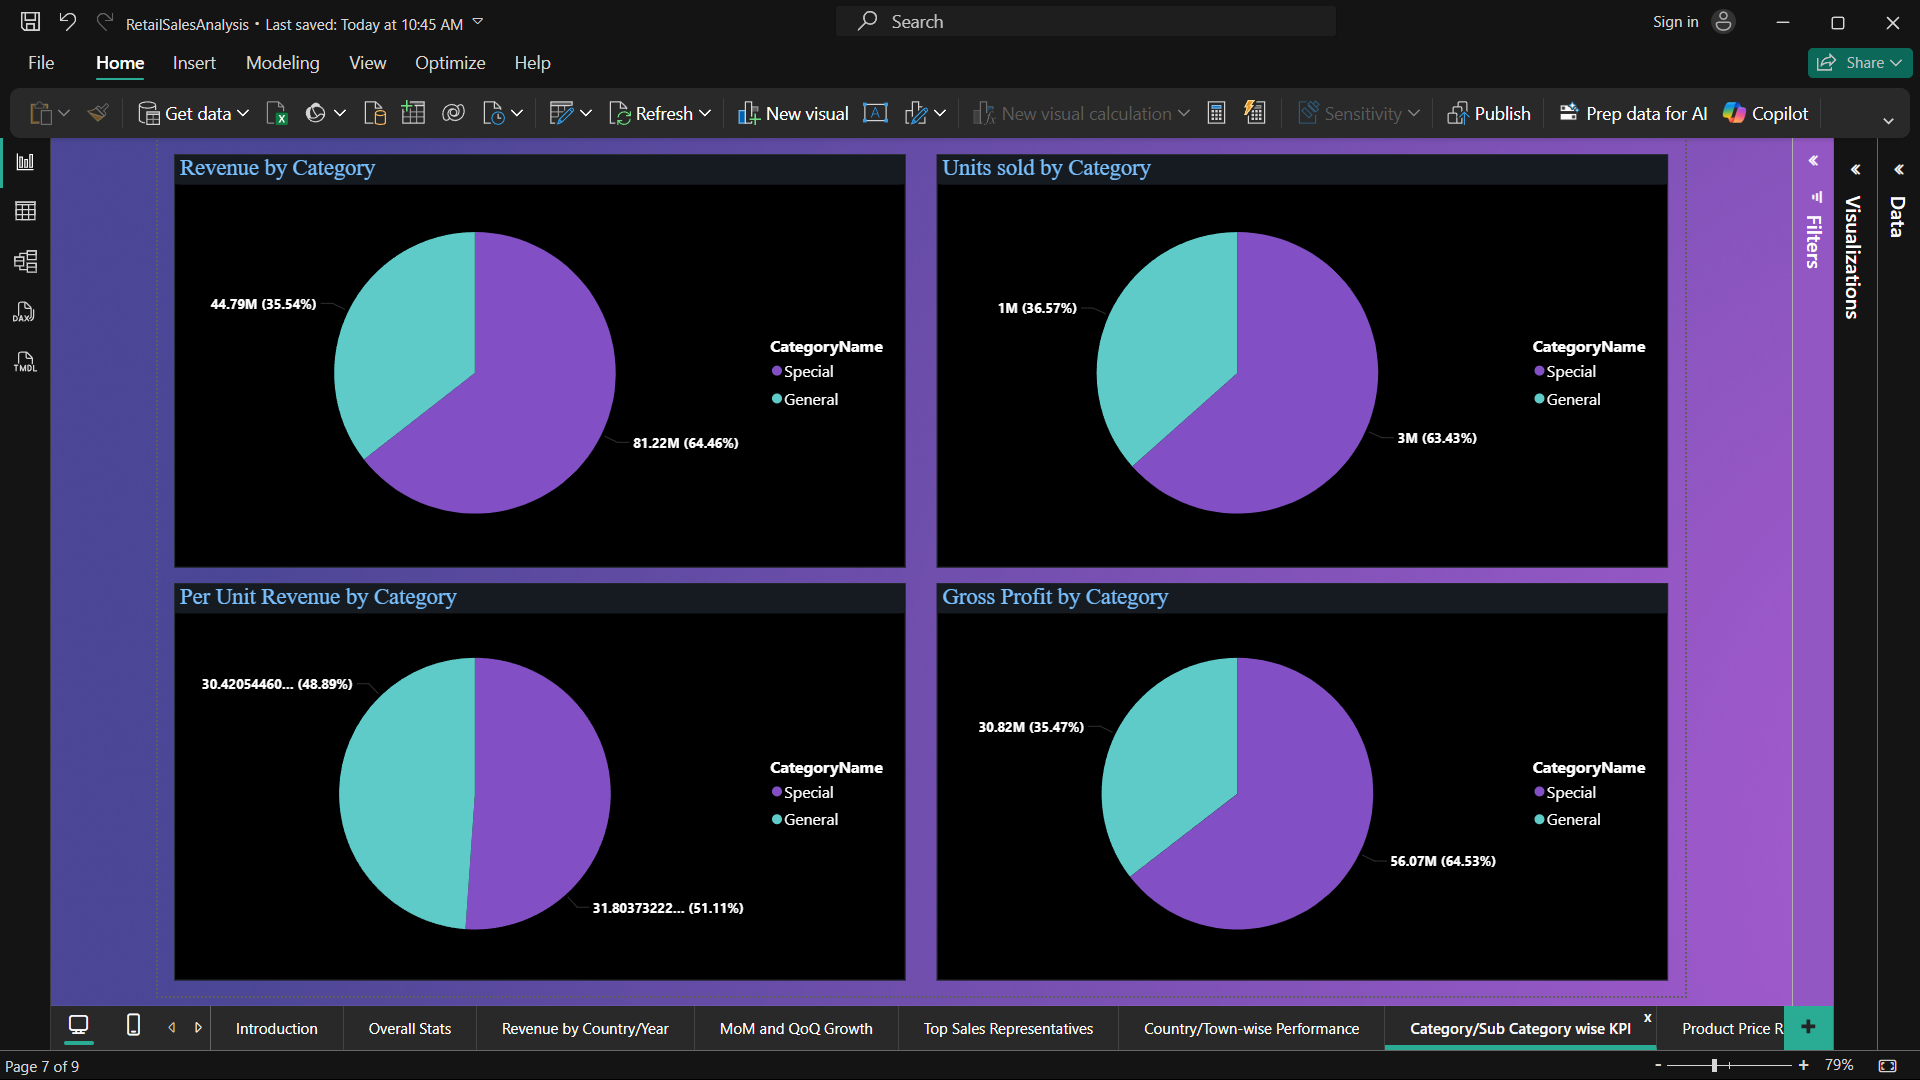

The page's visual inventory and layout, read from the dashboard file:
{"tool":"powerbi","page":{"name":"Category/Sub Category wise KPI","canvas":[1536,864],"ordinal":6},"visuals":[{"type":"pieChart","title":"Revenue by Category","fields":{"Category":["DimCategory.CategoryName","DimSubCategory.SubCategory Name"],"Y":["Sum(FactSales.Total Revenue)"]},"box":[16,16,736,416],"z":0},{"type":"pieChart","title":"Units sold by Category","fields":{"Category":["DimCategory.CategoryName","DimSubCategory.SubCategory Name"],"Y":["Sum(FactSales.Units)"]},"box":[784,16,736,416],"z":1000},{"type":"pieChart","title":"Gross Profit by Category","fields":{"Category":["DimCategory.CategoryName","DimSubCategory.SubCategory Name"],"Y":["FactSales.Total Gross Profit"]},"box":[784,448,736,400],"z":2000},{"type":"pieChart","title":"Per Unit Revenue by Category","fields":{"Category":["DimCategory.CategoryName","DimSubCategory.SubCategory Name"],"Y":["FactSales.Revenue per Unit"]},"box":[16,448,736,400],"z":3000}]}

Visuals, with their boxes on the page's 1536x864 design canvas (x1, y1, x2, y2). These are canvas units, not pixel positions in the 1920x1080 screenshot, which may show the page scaled, cropped or inside an application window:
"Revenue by Category" pieChart: region(16, 16, 752, 432)
"Units sold by Category" pieChart: region(784, 16, 1520, 432)
"Gross Profit by Category" pieChart: region(784, 448, 1520, 848)
"Per Unit Revenue by Category" pieChart: region(16, 448, 752, 848)
